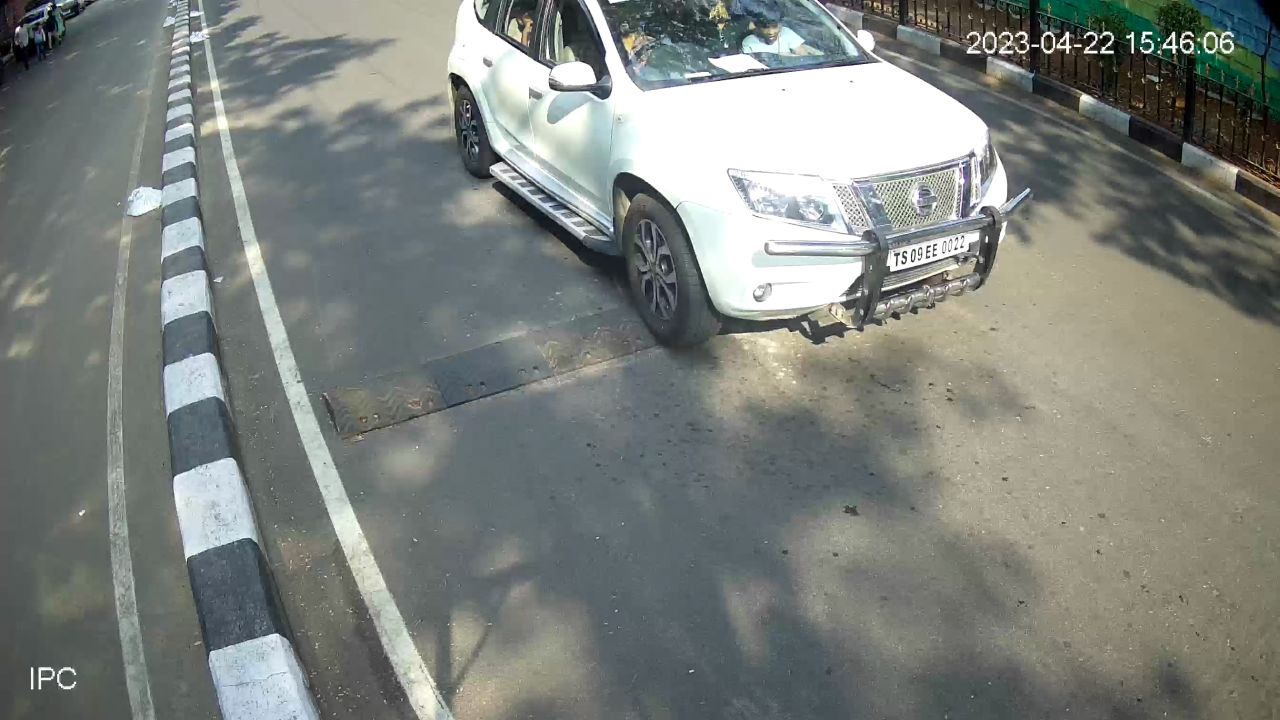license_plate: (886, 224, 977, 277)
